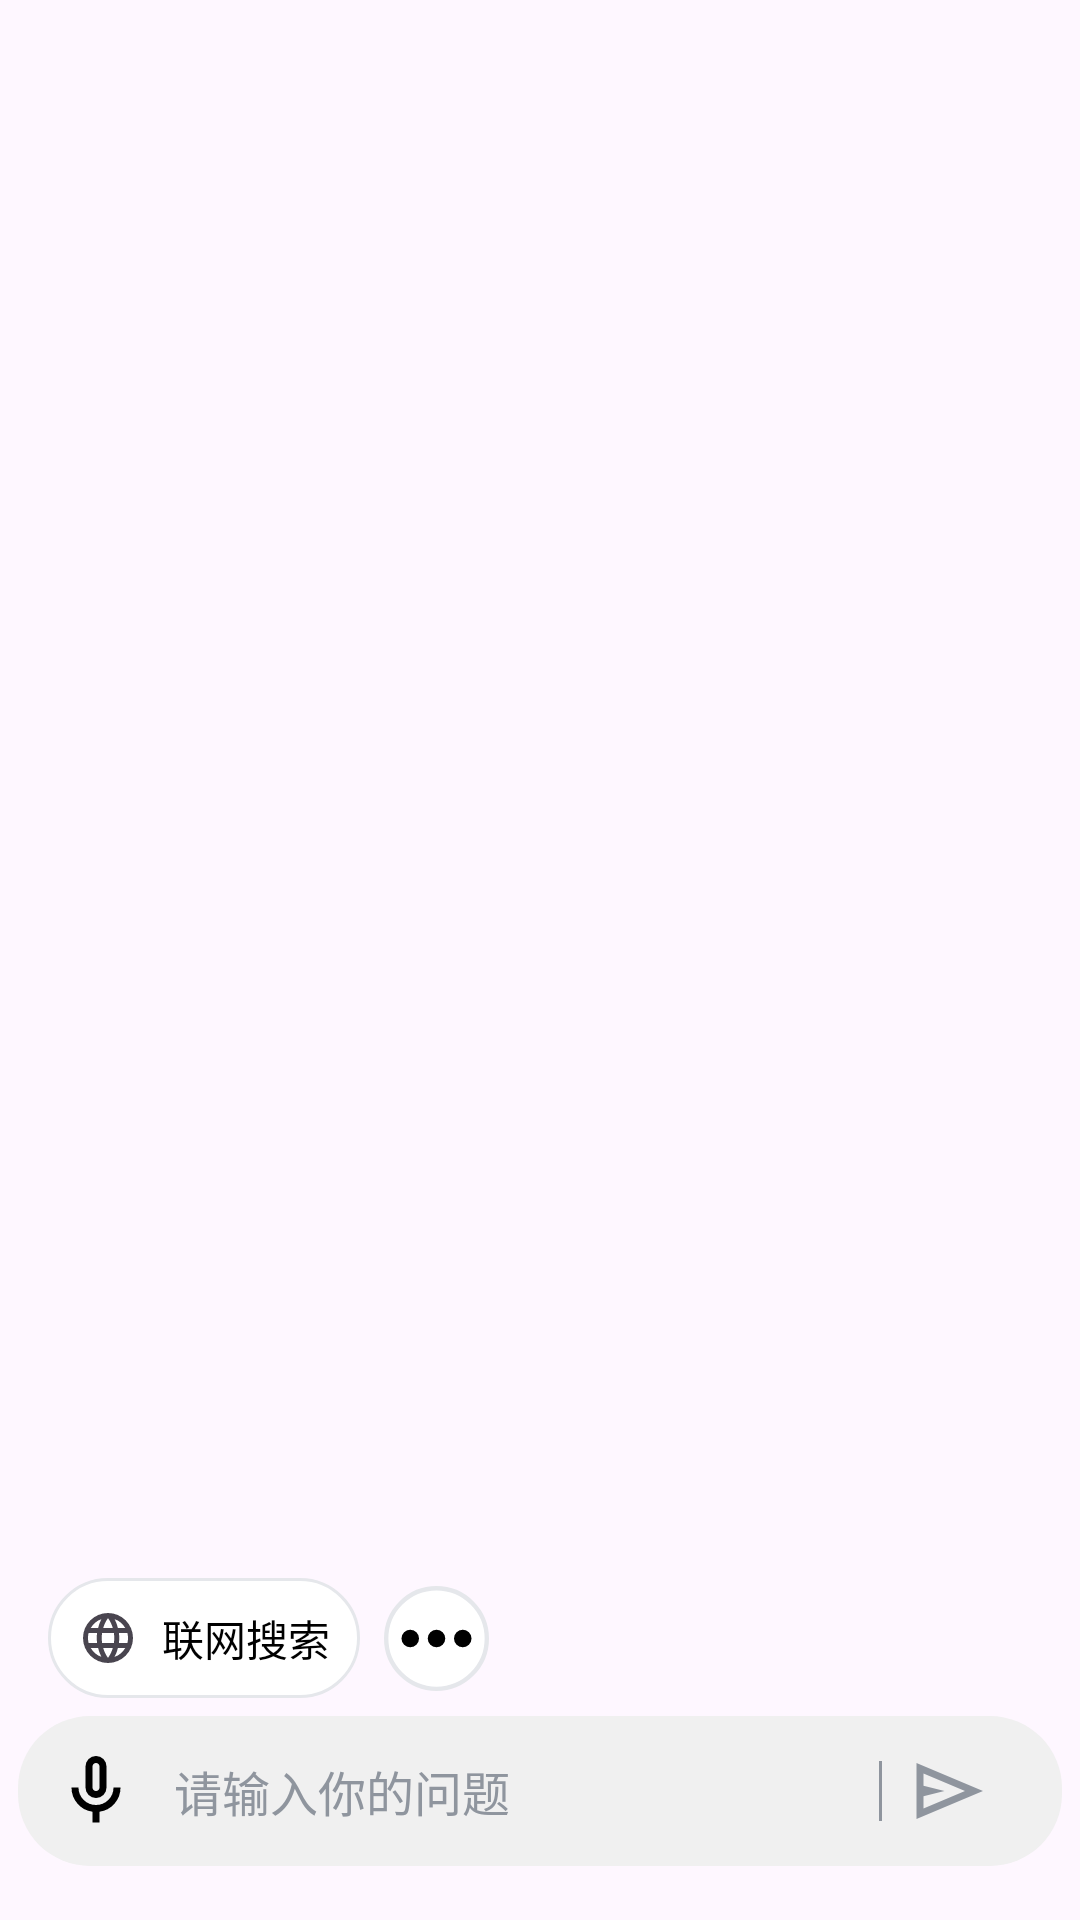

Point at icon controls on the screen. Image size 1080px x 1920px, points as point (x, y).
发送: point (949, 1791)
更多模型选项: point (436, 1638)
语音输入: point (96, 1789)
